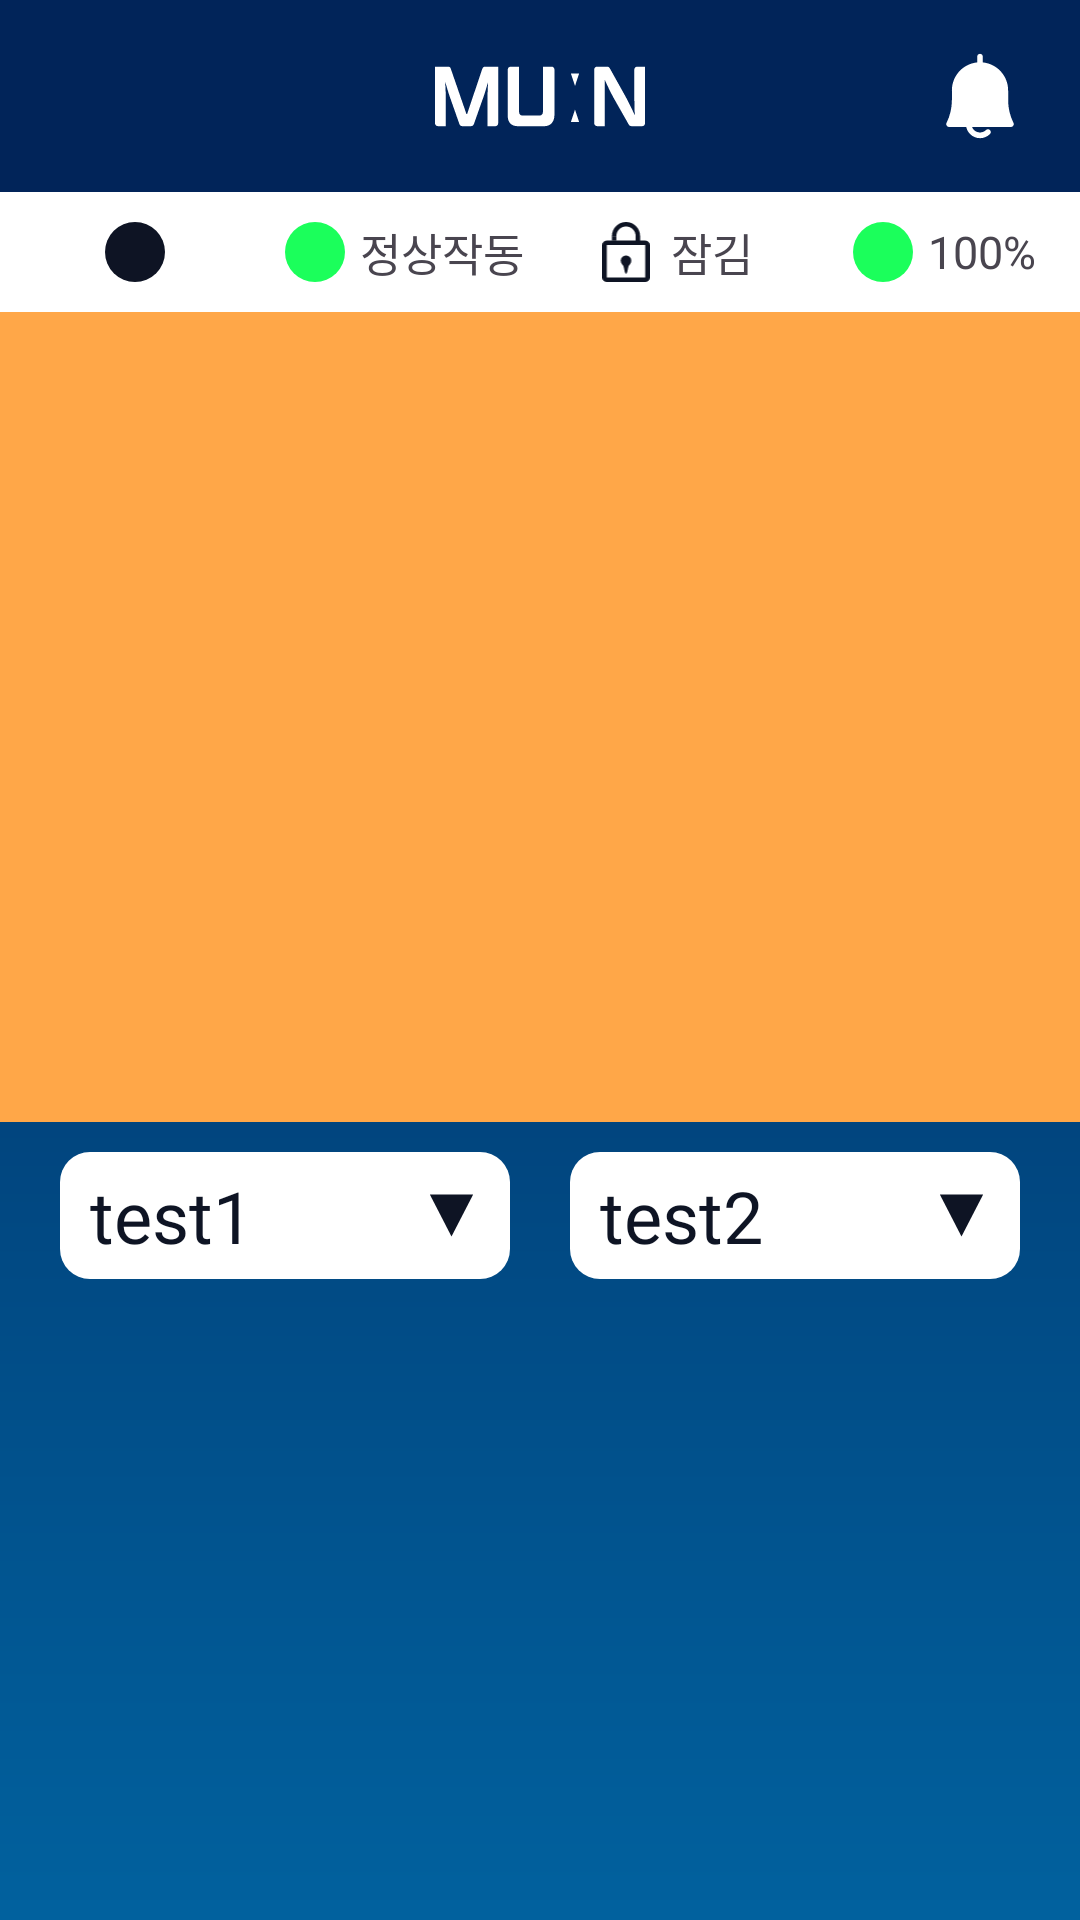

Icons on this 1080px×1920px Android screen, each with its box as rect(x1, y1, x2, y2):
bell: rect(946, 54, 1014, 139)
